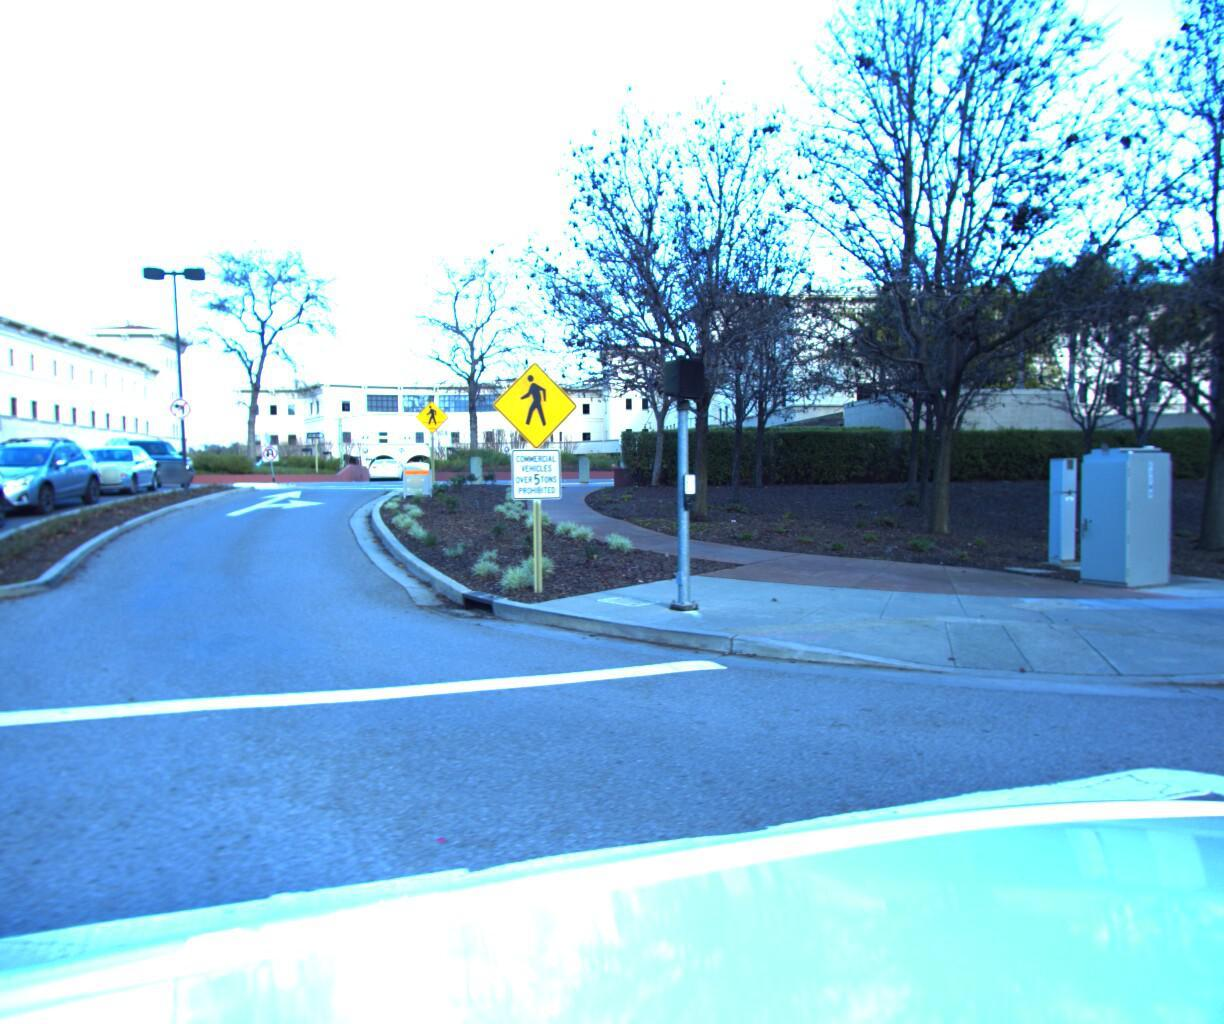car: (0, 428, 111, 519), (45, 441, 166, 497), (93, 436, 204, 486), (0, 431, 23, 561), (364, 451, 410, 484)
